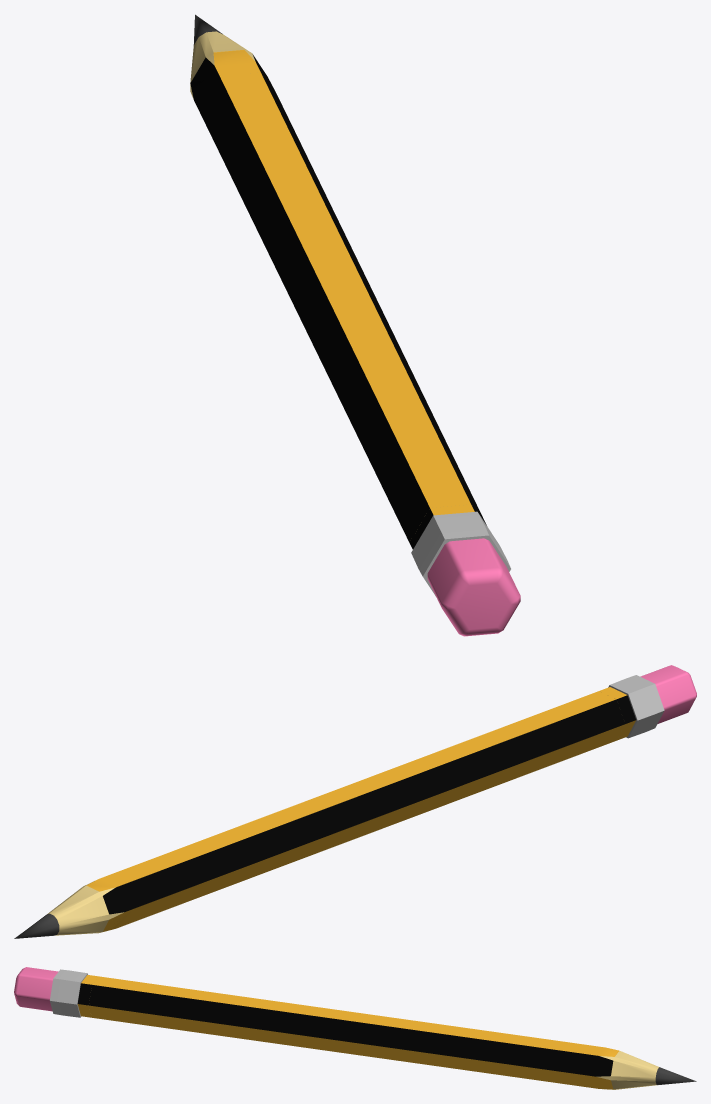
File: Pencil01.fbx
3 renders of one model, top to bottom at view 1: azimuth 30°, elevation 25°; view 2: azimuth 150°, elevation 25°; view 3: azimuth 270°, elevation 25°, orthographic. The views are drawn at different scales.
Visible parts, largest first — view 1: PencilShaft, PencilEraser, PencilTip_01, PencilTip_04; view 2: PencilShaft, PencilEraser, PencilTip_01, PencilTip_04; view 3: PencilShaft, PencilEraser, PencilTip_01, PencilTip_04.
Part boxes in pixels (x1=…): PencilShaft: x1=199, y1=72, x2=486, y2=542; PencilEraser: x1=409, y1=504, x2=520, y2=636; PencilTip_01: x1=190, y1=14, x2=276, y2=99; PencilTip_04: x1=193, y1=50, x2=280, y2=110; PencilShaft: x1=111, y1=691, x2=625, y2=923; PencilEraser: x1=599, y1=665, x2=696, y2=740; PencilTip_01: x1=14, y1=880, x2=134, y2=938; PencilTip_04: x1=87, y1=874, x2=136, y2=929; PencilShaft: x1=89, y1=976, x2=593, y2=1087; PencilEraser: x1=14, y1=967, x2=98, y2=1017; PencilTip_01: x1=584, y1=1050, x2=696, y2=1089; PencilTip_04: x1=584, y1=1046, x2=618, y2=1088.
Bounding box in the file's own units: 0.1197 × 0.0195 × 0.3368.
